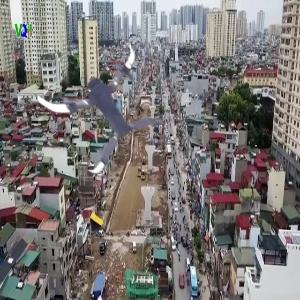drone: (40, 38, 165, 163)
